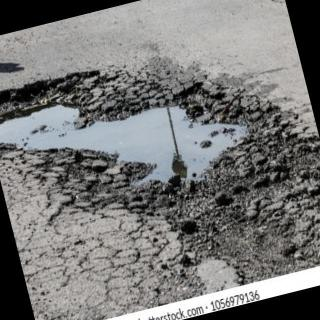pothole: (1, 70, 320, 308)
